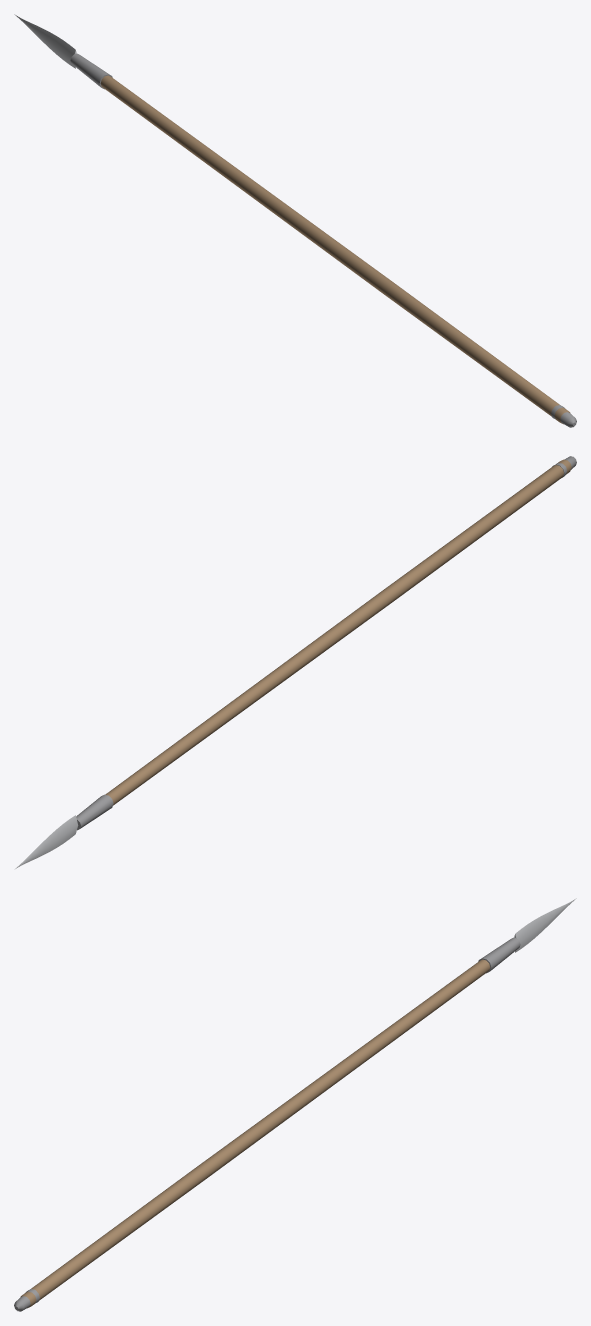
File: war_spear.glb
3 views of the same model, one above another, from view 1: azimuth 30°, elevation 25°; view 2: azimuth 150°, elevation 25°; view 3: azimuth 330°, elevation 25° (orthographic).
Visible parts, largest first — view 1: war_spear; view 2: war_spear; view 3: war_spear.
Part boxes in pixels (box(x1,y1,x2,y2)): war_spear: box(14, 14, 576, 427); war_spear: box(14, 456, 576, 869); war_spear: box(14, 898, 576, 1311).
Bounding box in the file's own units: 0.034 × 0.0466 × 2.36.
